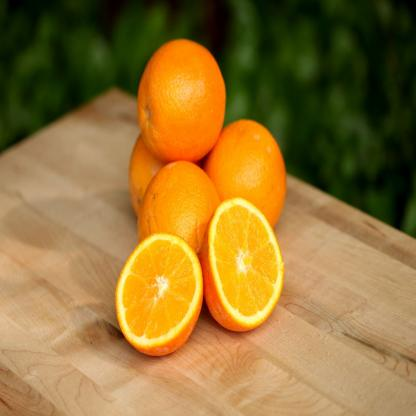orange: (134, 39, 235, 165), (196, 115, 287, 252), (119, 160, 226, 275)
